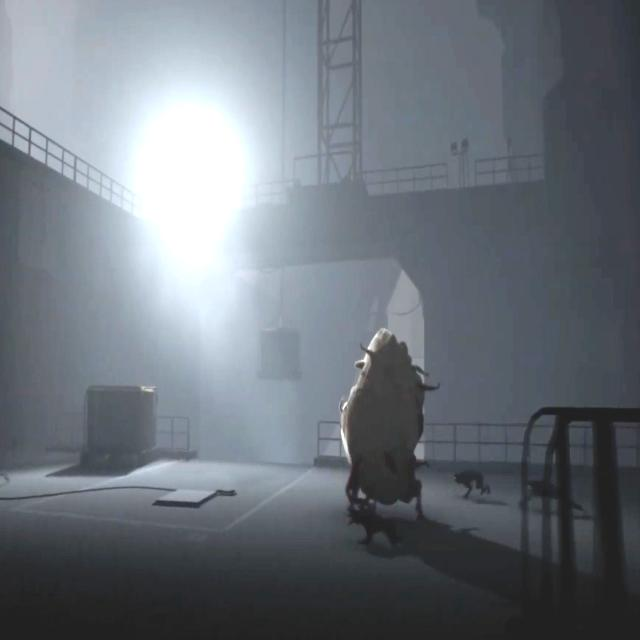blob: (344, 328, 440, 522)
dog: (520, 481, 586, 517), (359, 511, 403, 547), (452, 468, 491, 501)
structure: (0, 91, 141, 216), (314, 0, 368, 194), (418, 424, 640, 459), (140, 176, 296, 220), (361, 161, 449, 192), (474, 153, 545, 185), (156, 412, 190, 452), (316, 418, 345, 460)
